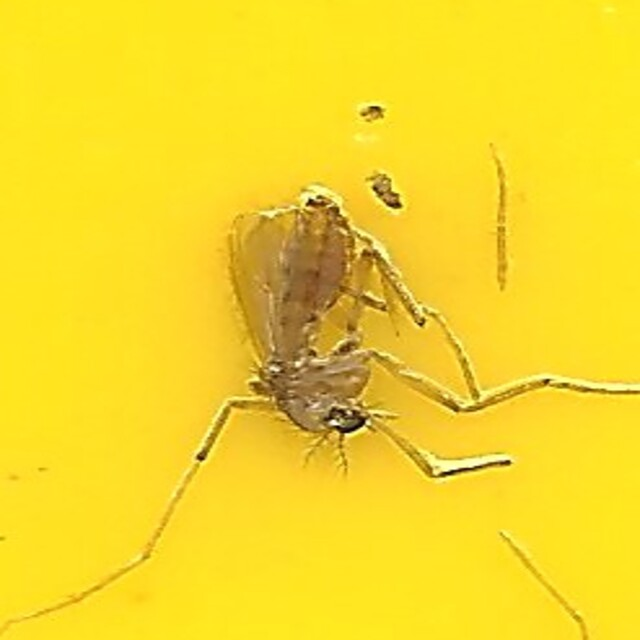Nematocera: (259, 193, 381, 447)
